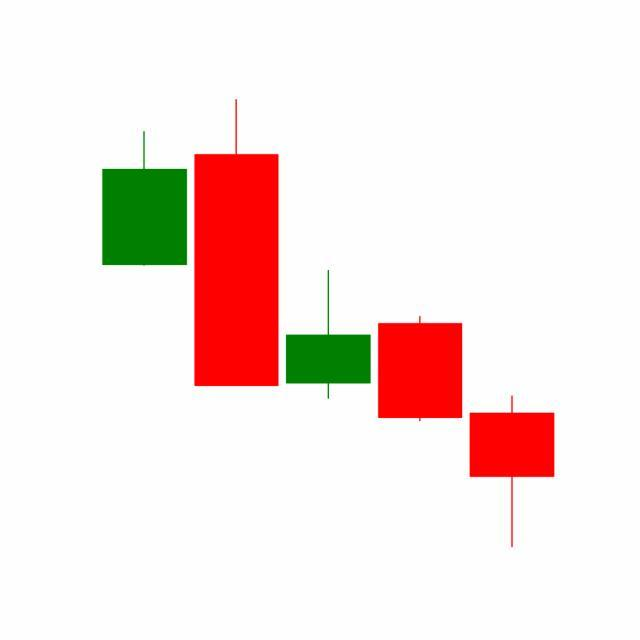Three Outside Up-Down: (280, 266, 555, 548)
